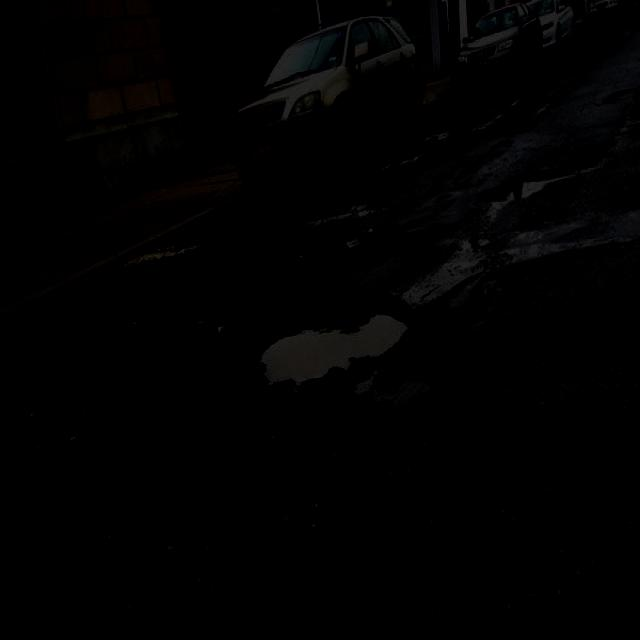Pothole: (10, 360, 190, 530), (258, 285, 423, 394)
